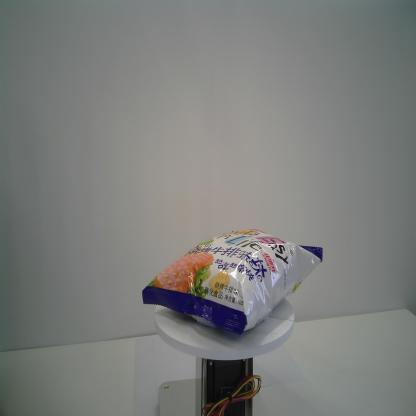Puffed Food: (142, 228, 324, 334)
